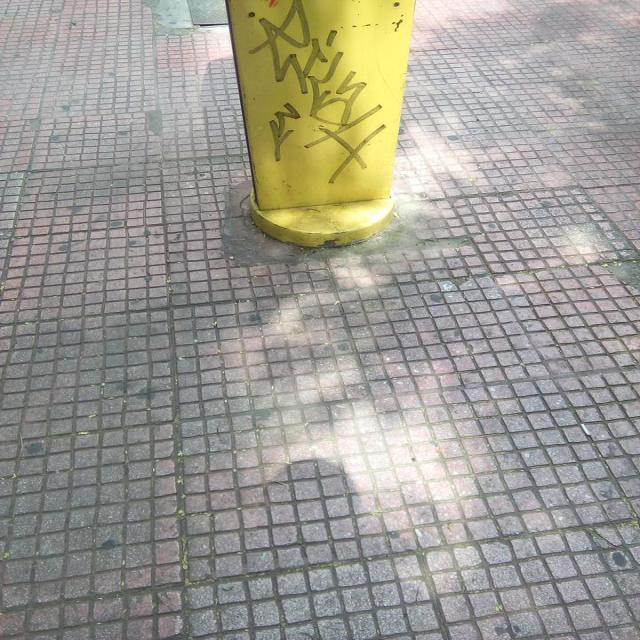nonspitting: (245, 2, 388, 186)
